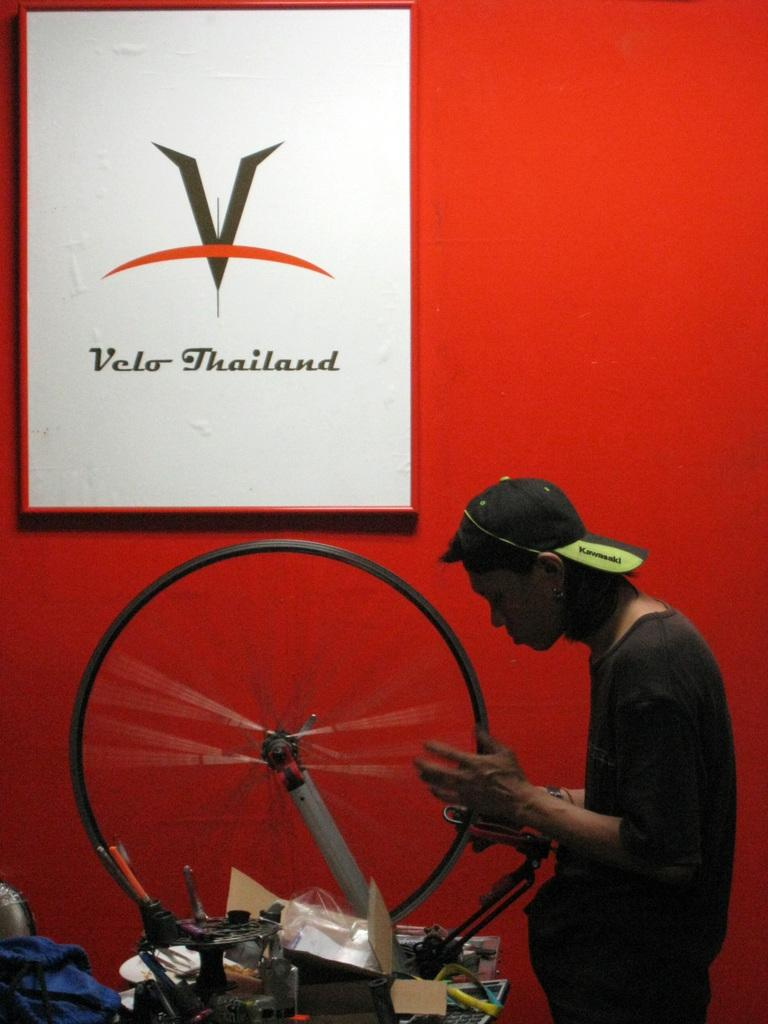Hat: (440, 475, 643, 590)
